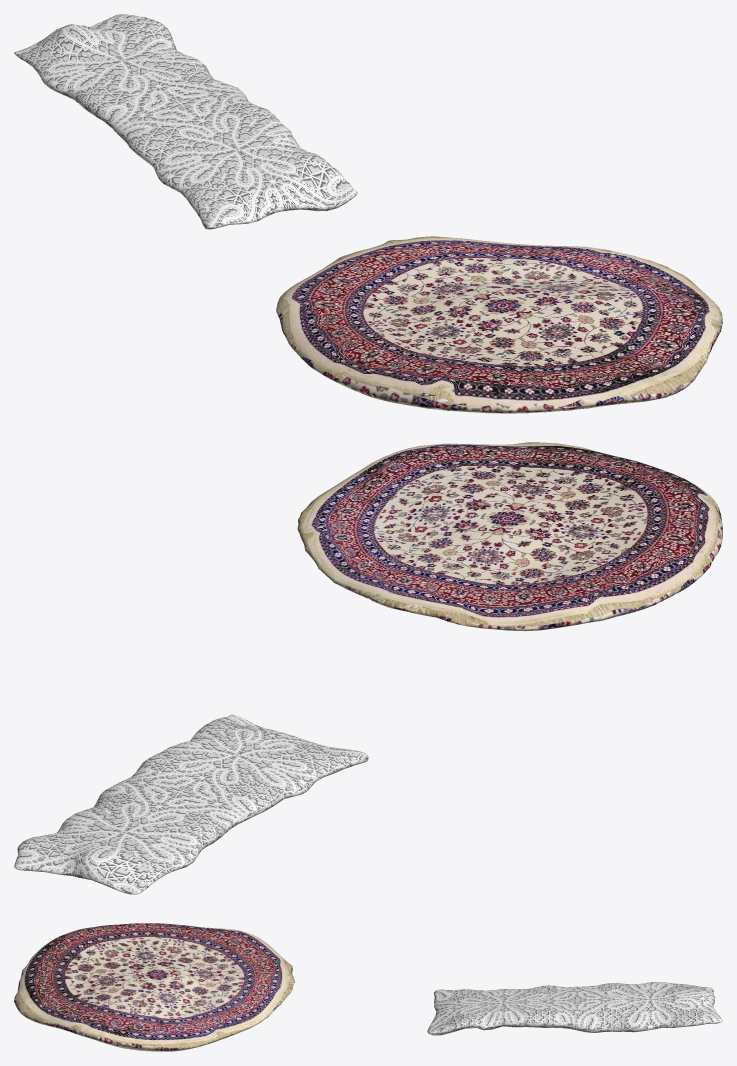
The model's file is Tapéte.fbx.
3 views of the same model, one above another, from view 1: azimuth 30°, elevation 25°; view 2: azimuth 150°, elevation 25°; view 3: azimuth 270°, elevation 25° (orthographic). The views are drawn at different scales.
Parts seen in each view (by area): view 1: Sphere, Cube; view 2: Sphere, Cube; view 3: Sphere, Cube.
Part boxes in pixels (box(x1,y1,x2,y2)): Sphere: box(276, 236, 722, 413); Cube: box(14, 14, 357, 229); Sphere: box(297, 442, 722, 631); Cube: box(14, 714, 368, 894); Sphere: box(14, 923, 294, 1051); Cube: box(427, 982, 722, 1035).
Size of the model in its own units: 1202 by 244 by 3024.
